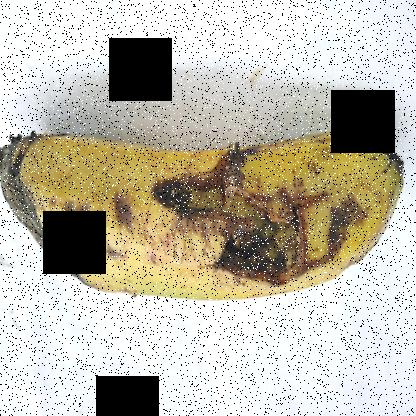rotten: (149, 134, 365, 324), (0, 110, 115, 313)
